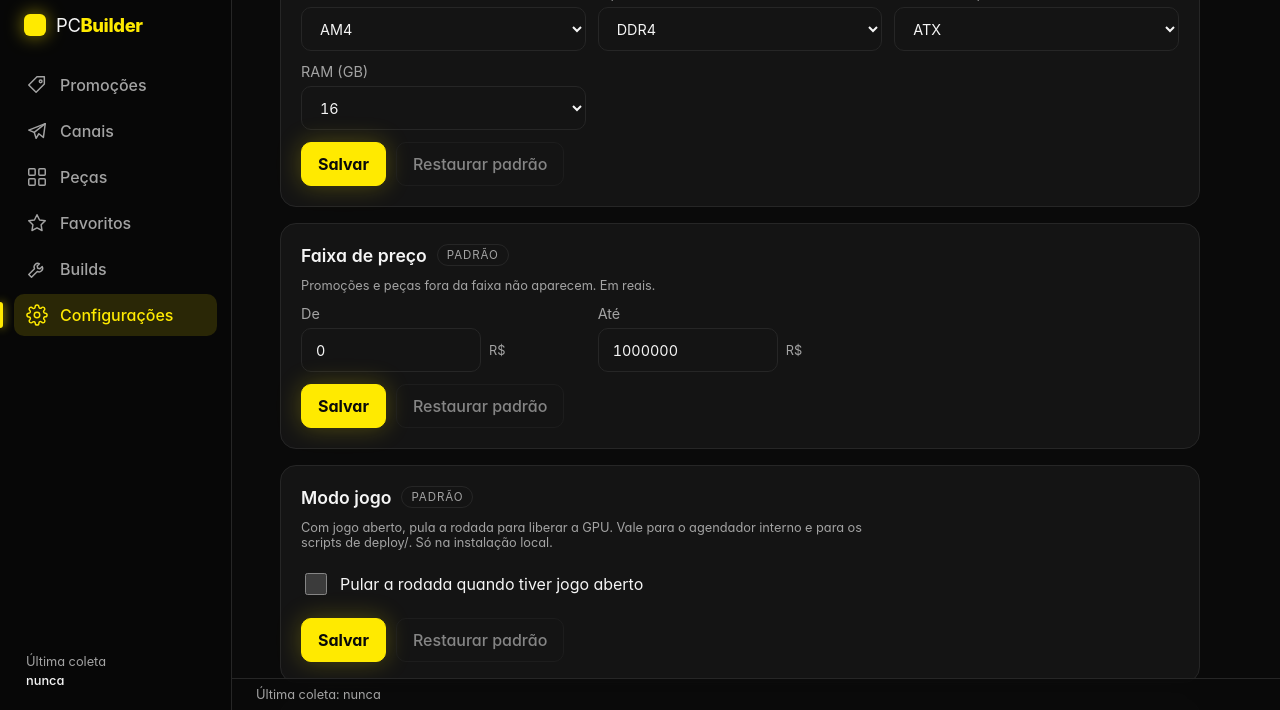
Scenario: Configurações › salvar manda só a chave da seção, em JSON, e avisa
(page scrolled)
Replace the text in the number field labelled "De" with "1000": (391, 350) [301,328,481,372]
(page scrolled)
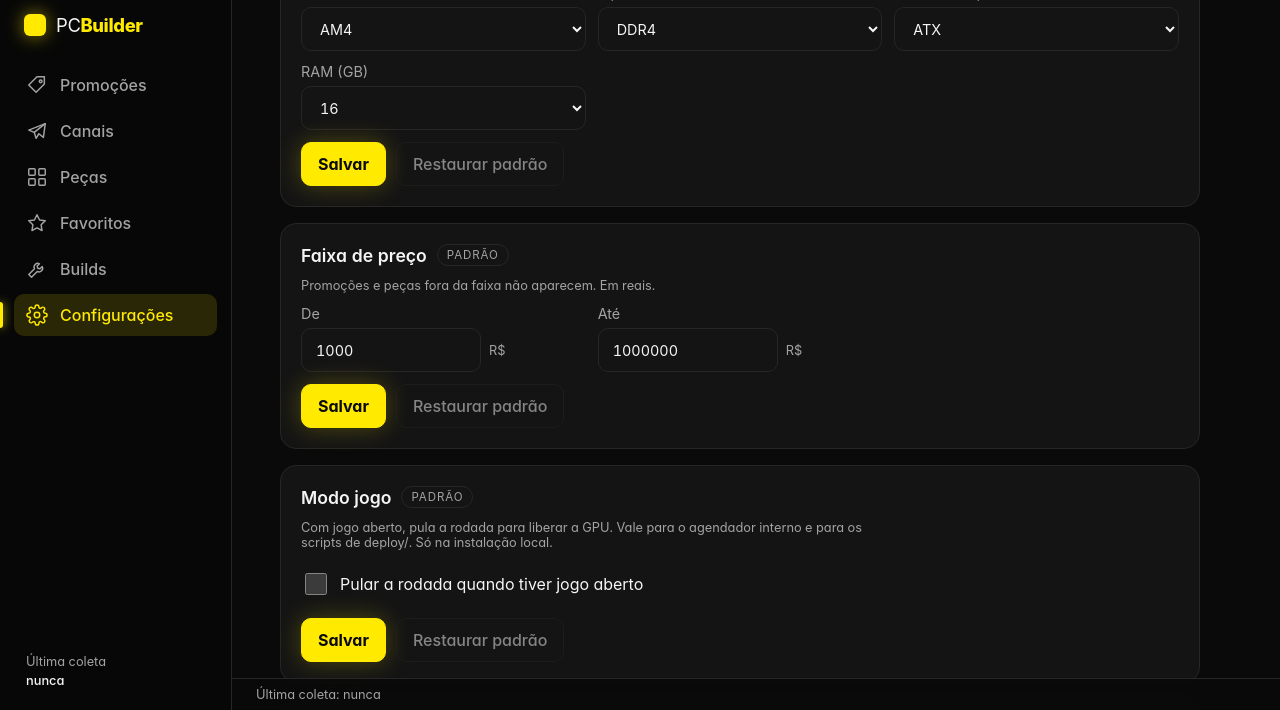
Replace the text in the number field labelled "Até" with "5000": (688, 350) [598,328,778,372]
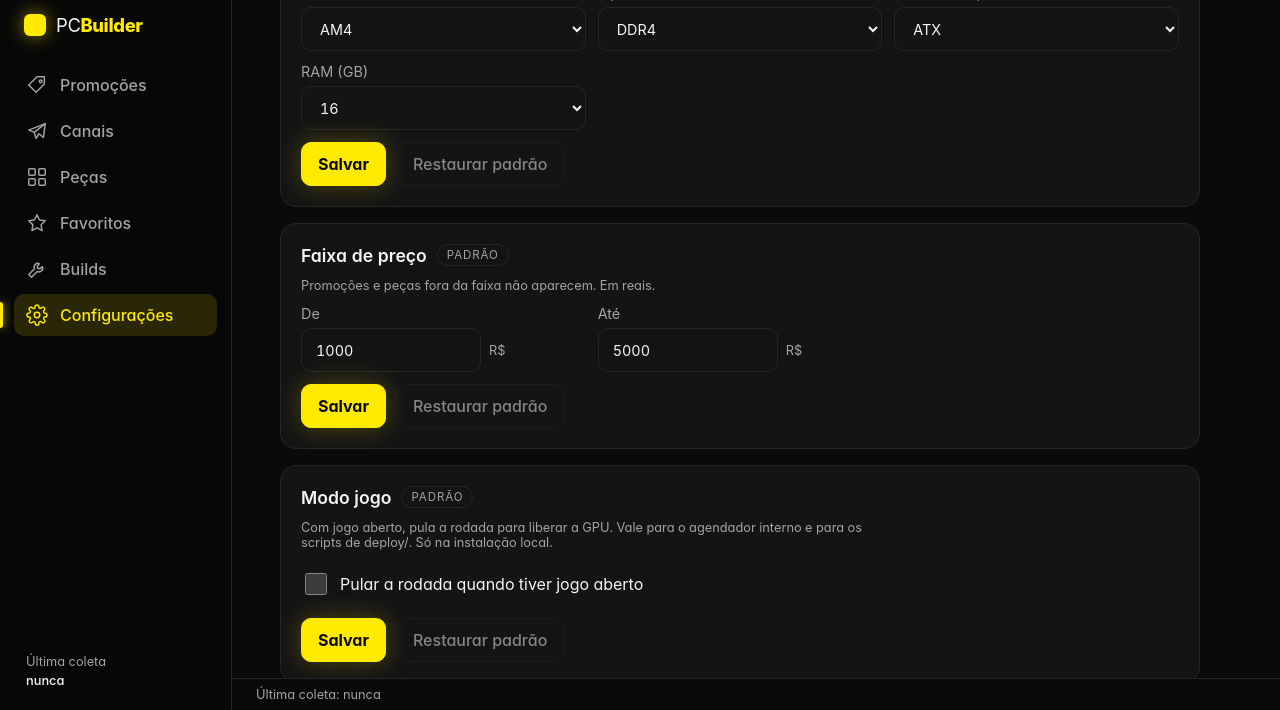
Click the button with aria-label "Salvar Faixa de preço": click(344, 406) [301,384,386,428]
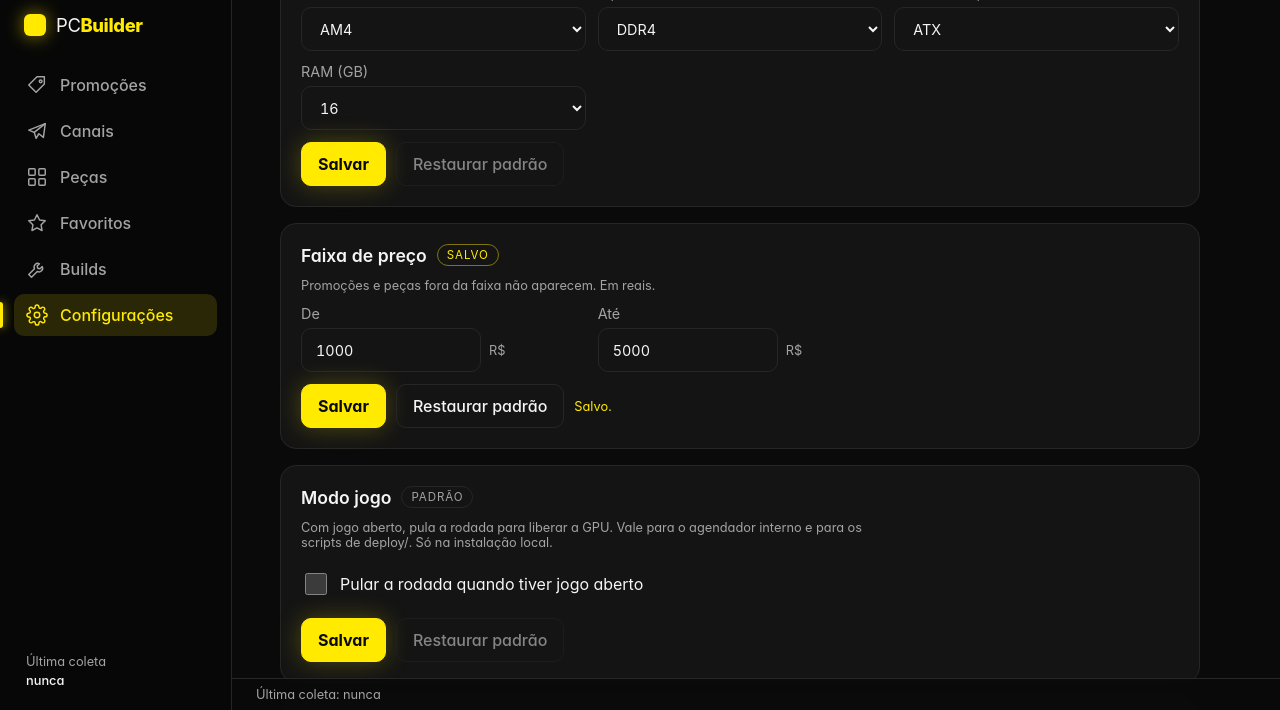
Expected: the message reads "Salvo.", [574,398,612,414]
Expected: the text "salvo" is shown, [437,244,499,266]
